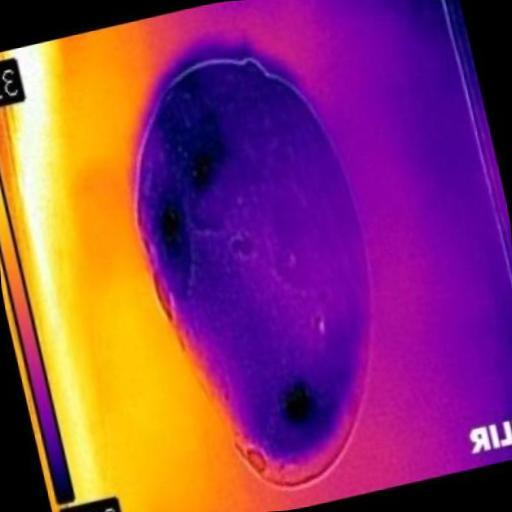alphanso: (137, 59, 370, 485)
